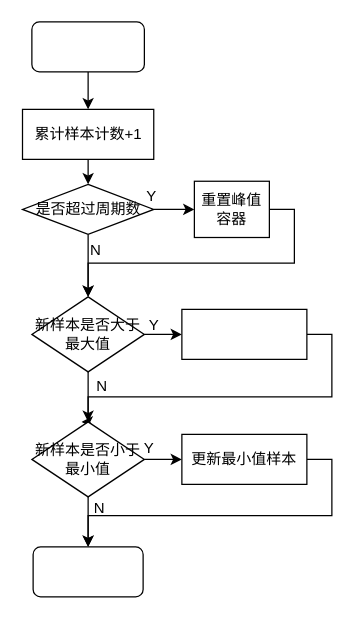
This 364x619 diagram has some shape labels left out. Each missing label, with the centre of its shape:
峰值更新开始: (87,46)
峰值更新结束: (87,571)
更新最大值样本: (244,333)
